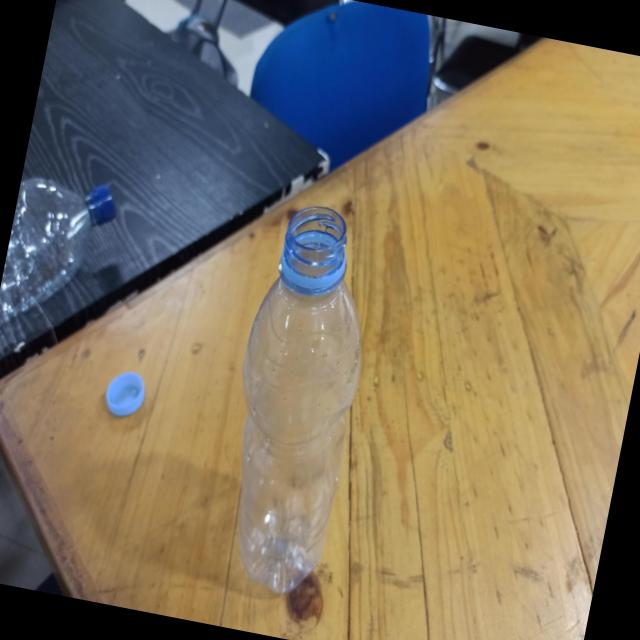BotolPlastik: (200, 195, 392, 600)
